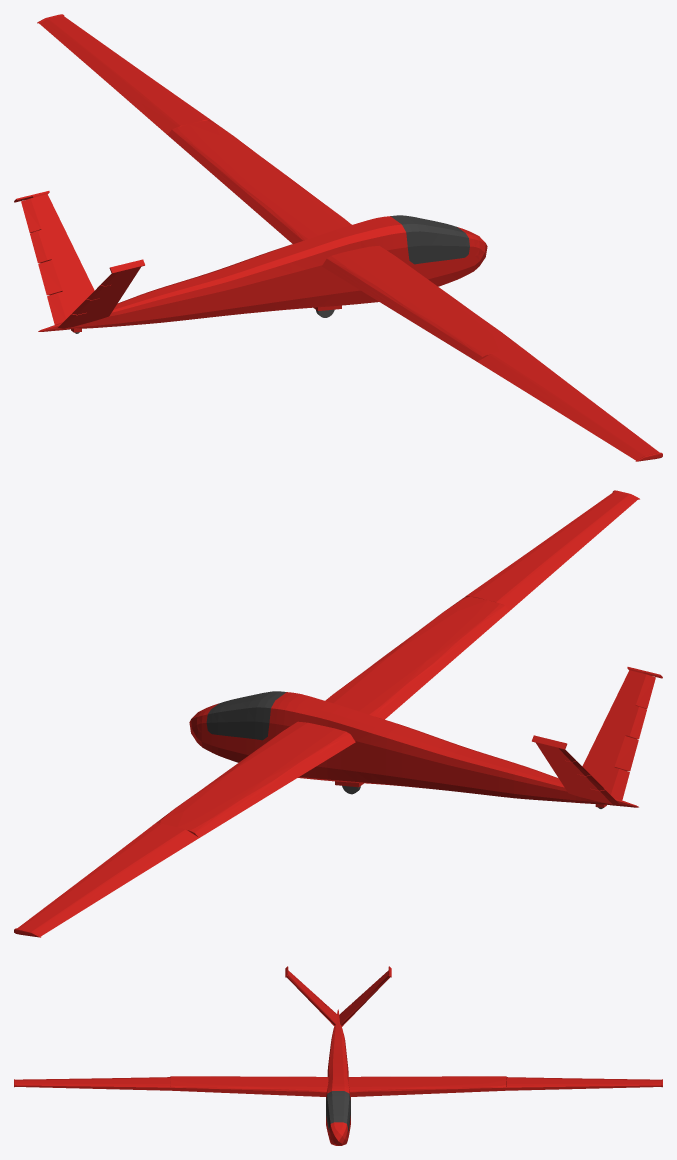
The model's file is samolot4.dae.
The picture shows the model from 3 angles, top to bottom: view 1: azimuth 30°, elevation 25°; view 2: azimuth 150°, elevation 25°; view 3: azimuth 270°, elevation 25°; orthographic projection. The views are drawn at different scales.
Visible parts, largest first — view 1: Cube_001; view 2: Cube_001; view 3: Cube_001.
Part boxes in pixels (x1,y1,x2,y2): Cube_001: (14,14,662,461); Cube_001: (14,490,662,937); Cube_001: (14,966,662,1145).
Size of the model in its own units: 15.21 by 35.11 by 4.78.
